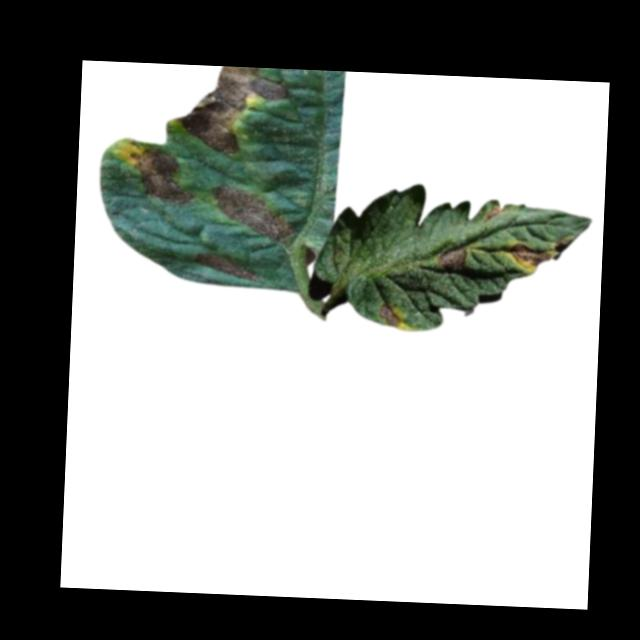Early_blight: (174, 65, 291, 156), (206, 179, 294, 244), (125, 145, 194, 206), (194, 250, 257, 285), (507, 238, 550, 273), (431, 245, 467, 269), (376, 302, 404, 327), (481, 201, 505, 221)
